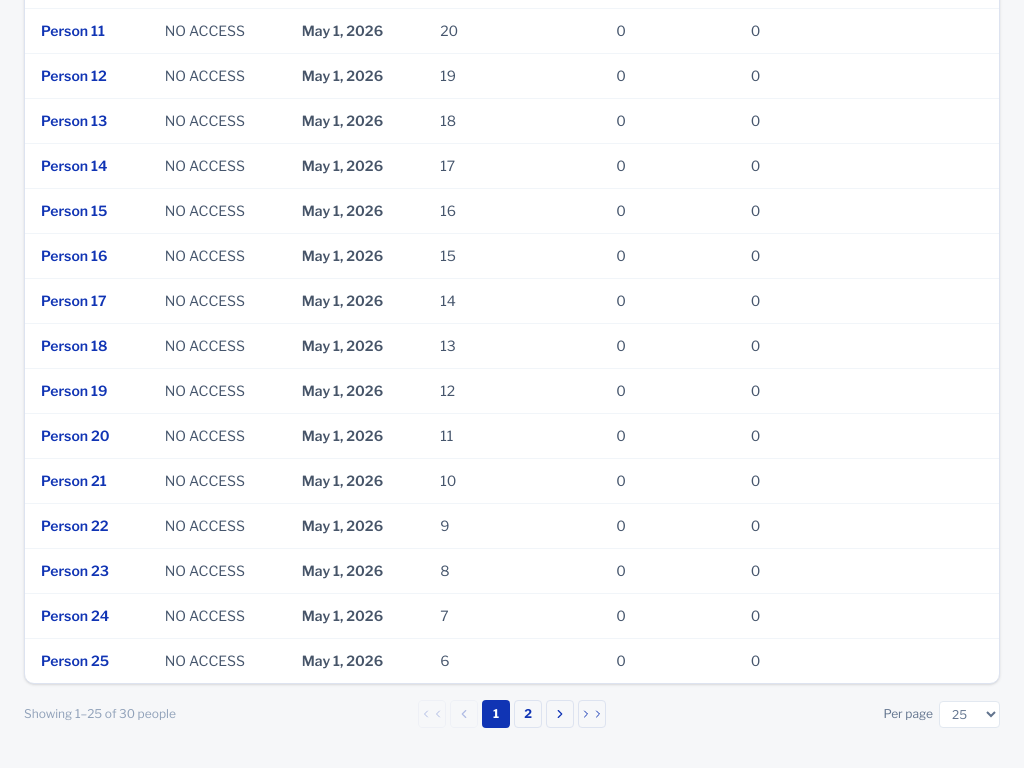
UsageTable pagination › honours the per-page picker
(page scrolled)
Select "10" in the dropdown named "Rows per page": [970, 714] box [939,700,1000,728]
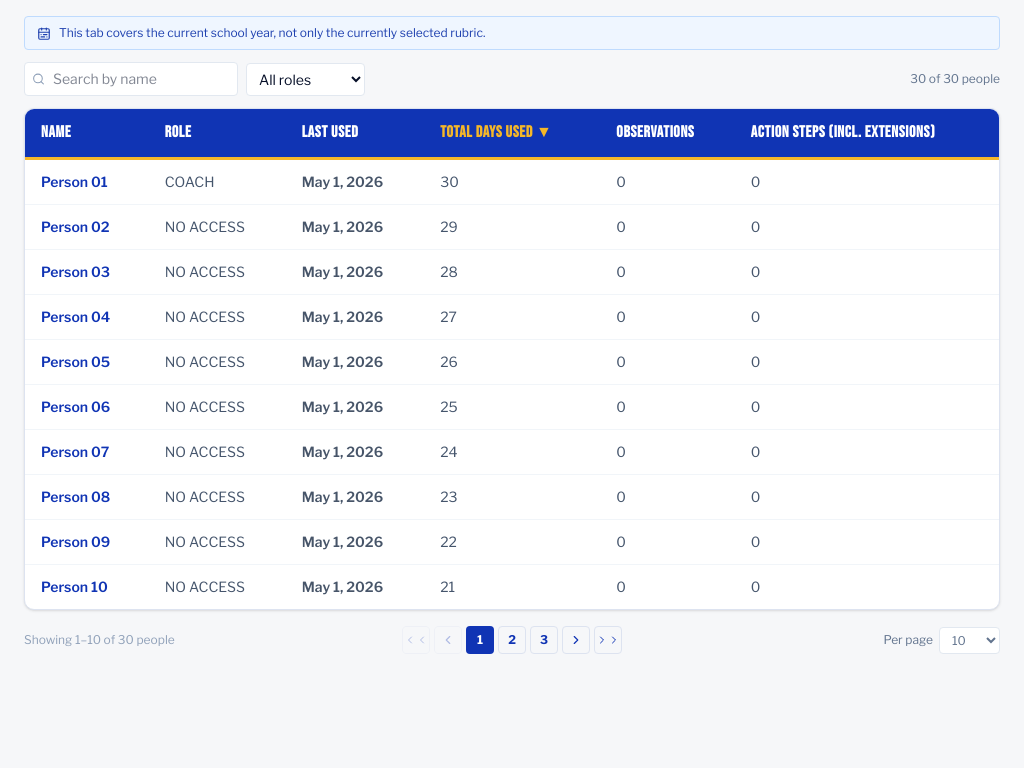
Check: the text "Person 11" is gone
Check: the text "Person 10" is shown, box [25,564,149,609]
Check: the text "Showing 1–10 of 30 people" is shown, box [24,632,175,647]
